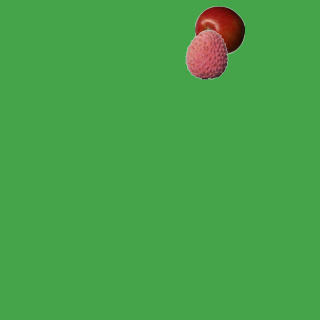Apple Braeburn: (194, 5, 244, 55)
Lychee: (181, 29, 231, 79)
